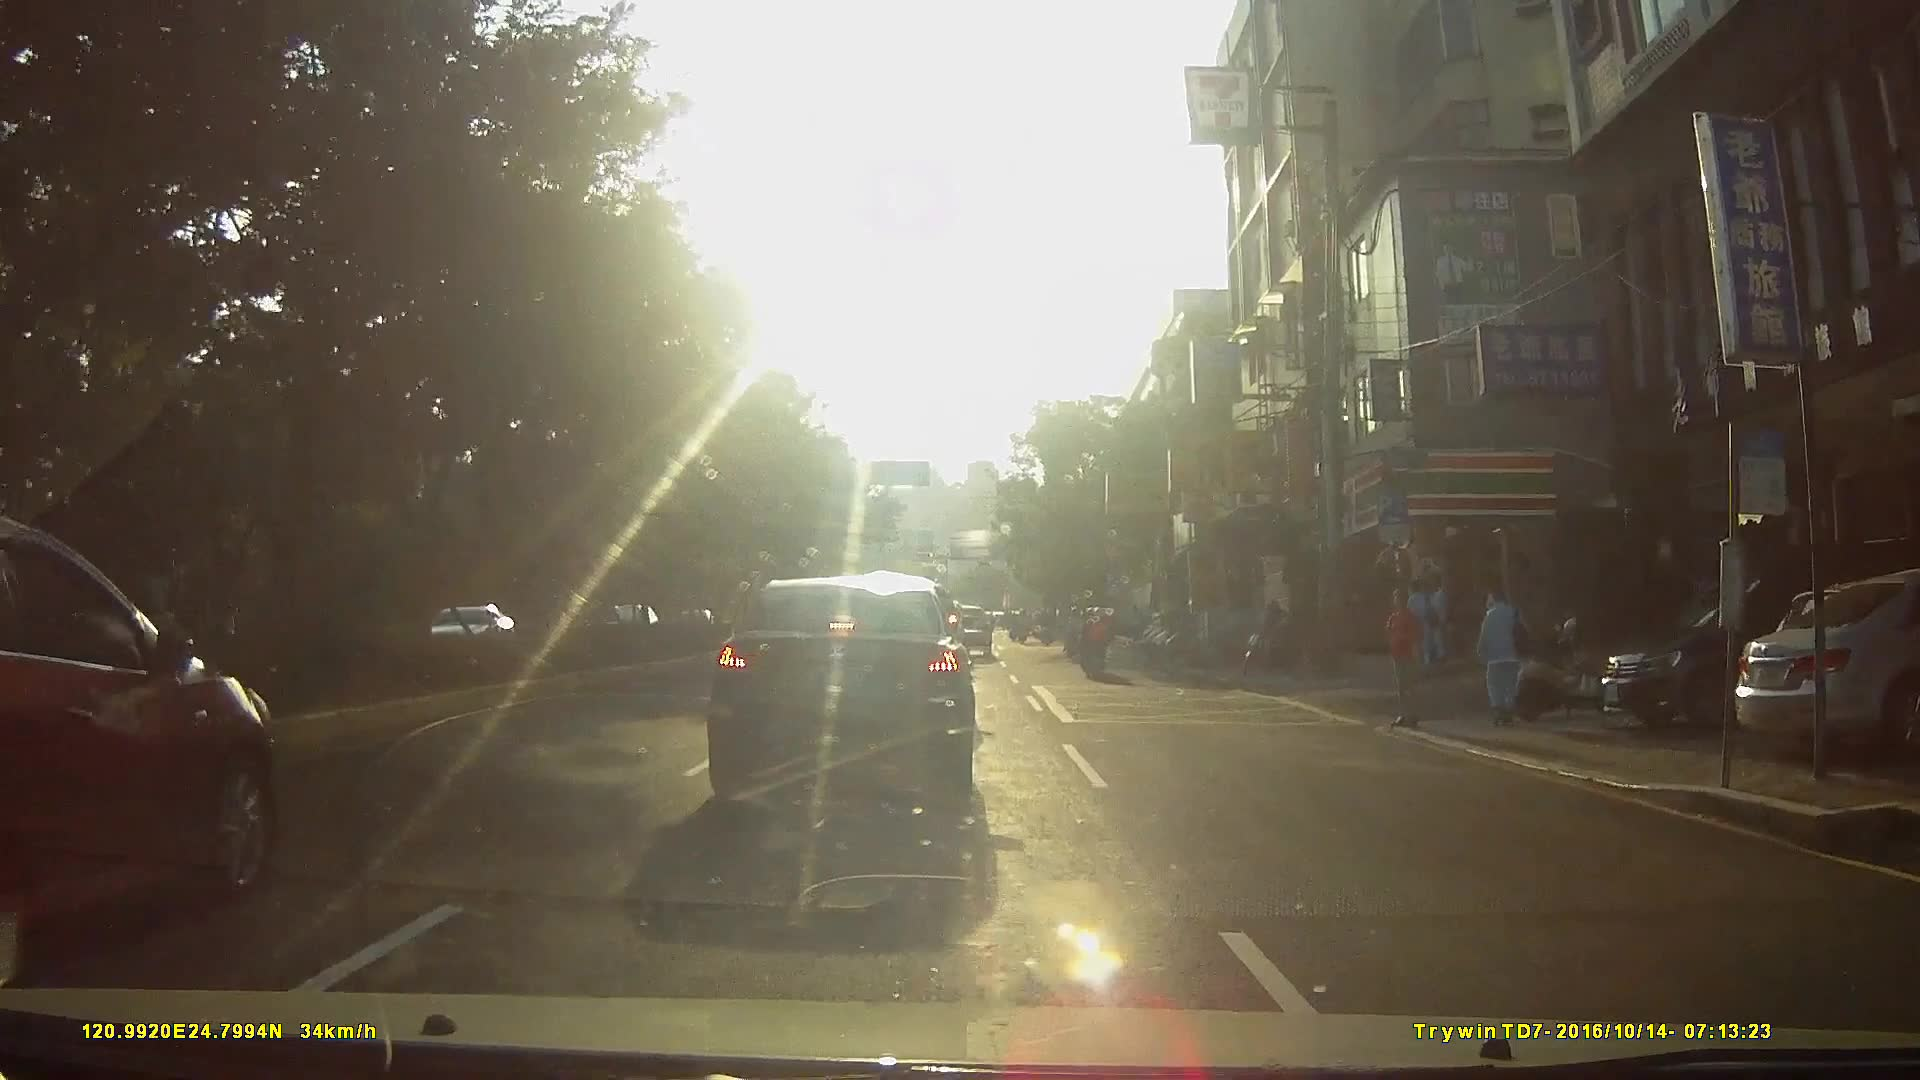pedestrian: (1470, 585, 1532, 724), (1387, 589, 1425, 733)
rider: (1075, 604, 1113, 681), (1062, 605, 1087, 659)
vehicle: (1, 506, 289, 955), (1591, 557, 1916, 738), (703, 574, 990, 775), (1724, 573, 1920, 766)
